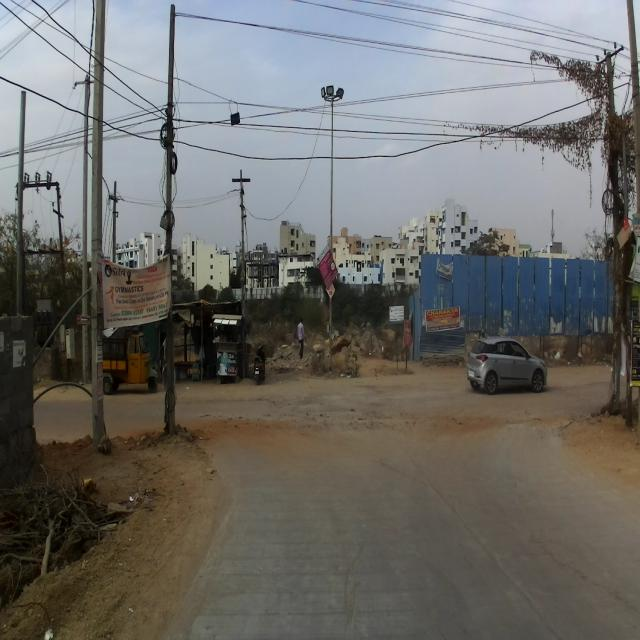car ahead at: (468, 328, 549, 408)
electric pole ahead at: (74, 0, 122, 444), (592, 48, 637, 419), (157, 1, 186, 433)
